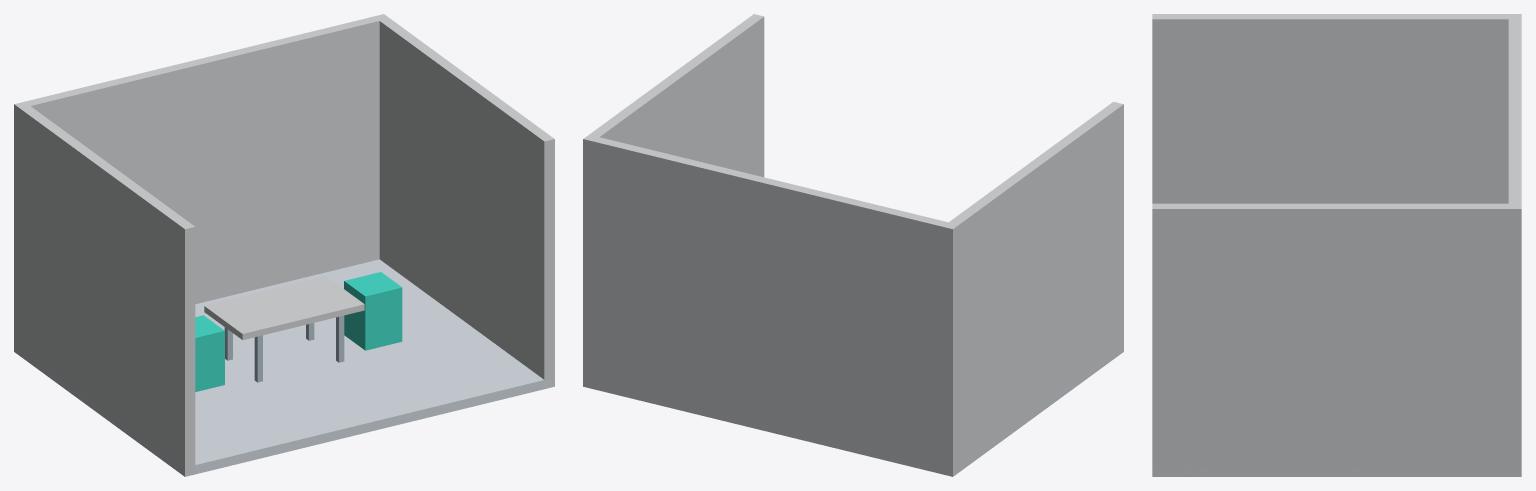
3 views of the same model, side by side, from view 1: azimuth 30°, elevation 25°; view 2: azimuth 150°, elevation 25°; view 3: azimuth 270°, elevation 25° (orthographic). The views are drawn at different scales.
Visible parts, largest first — view 1: Exhibition Booth Concept; view 2: Exhibition Booth Concept; view 3: Exhibition Booth Concept.
Part boxes in pixels (x1,y1,x2,y2): Exhibition Booth Concept: [14, 14, 554, 476]; Exhibition Booth Concept: [583, 14, 1123, 476]; Exhibition Booth Concept: [1152, 14, 1521, 476].
Size of the model in its own units: 5 by 3.2 by 4.
